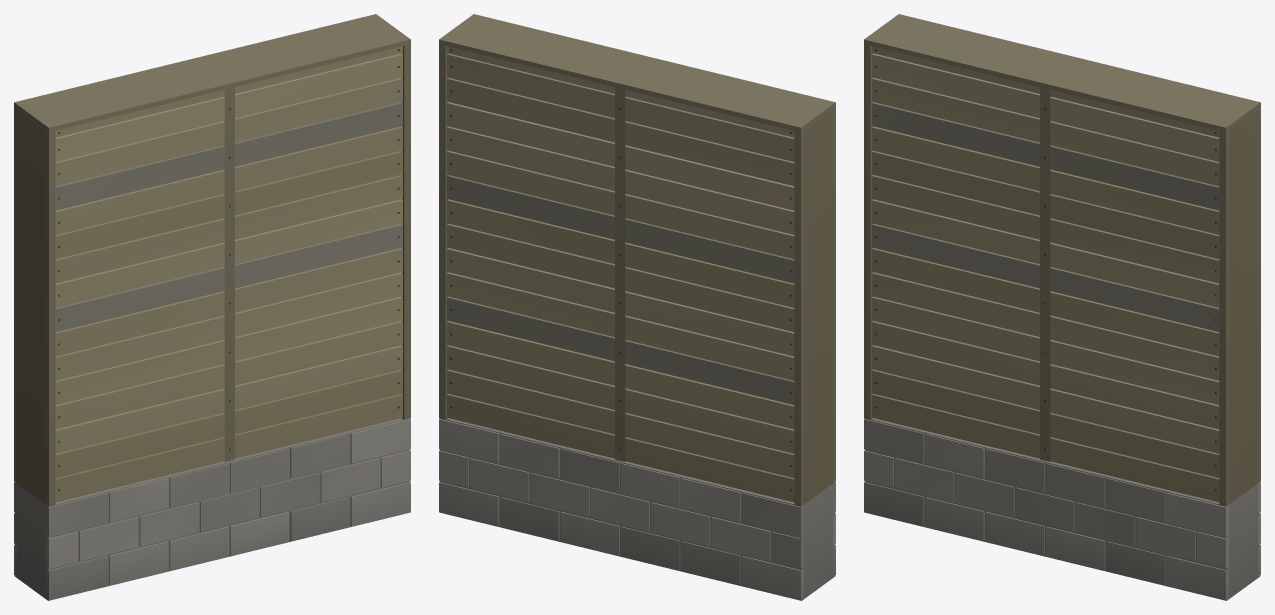
File: range_wall_b.glb
3 renders of one model, left to right at view 1: azimuth 30°, elevation 25°; view 2: azimuth 150°, elevation 25°; view 3: azimuth 330°, elevation 25°, orthographic.
Visible parts, largest first — view 1: RangeWall_b; view 2: RangeWall_b; view 3: RangeWall_b.
Part boxes in pixels (x1=…): RangeWall_b: x1=14, y1=14, x2=410, y2=600; RangeWall_b: x1=439, y1=14, x2=835, y2=600; RangeWall_b: x1=864, y1=14, x2=1260, y2=600.
Bounding box in the file's own units: 2.4 × 3 × 0.4.
